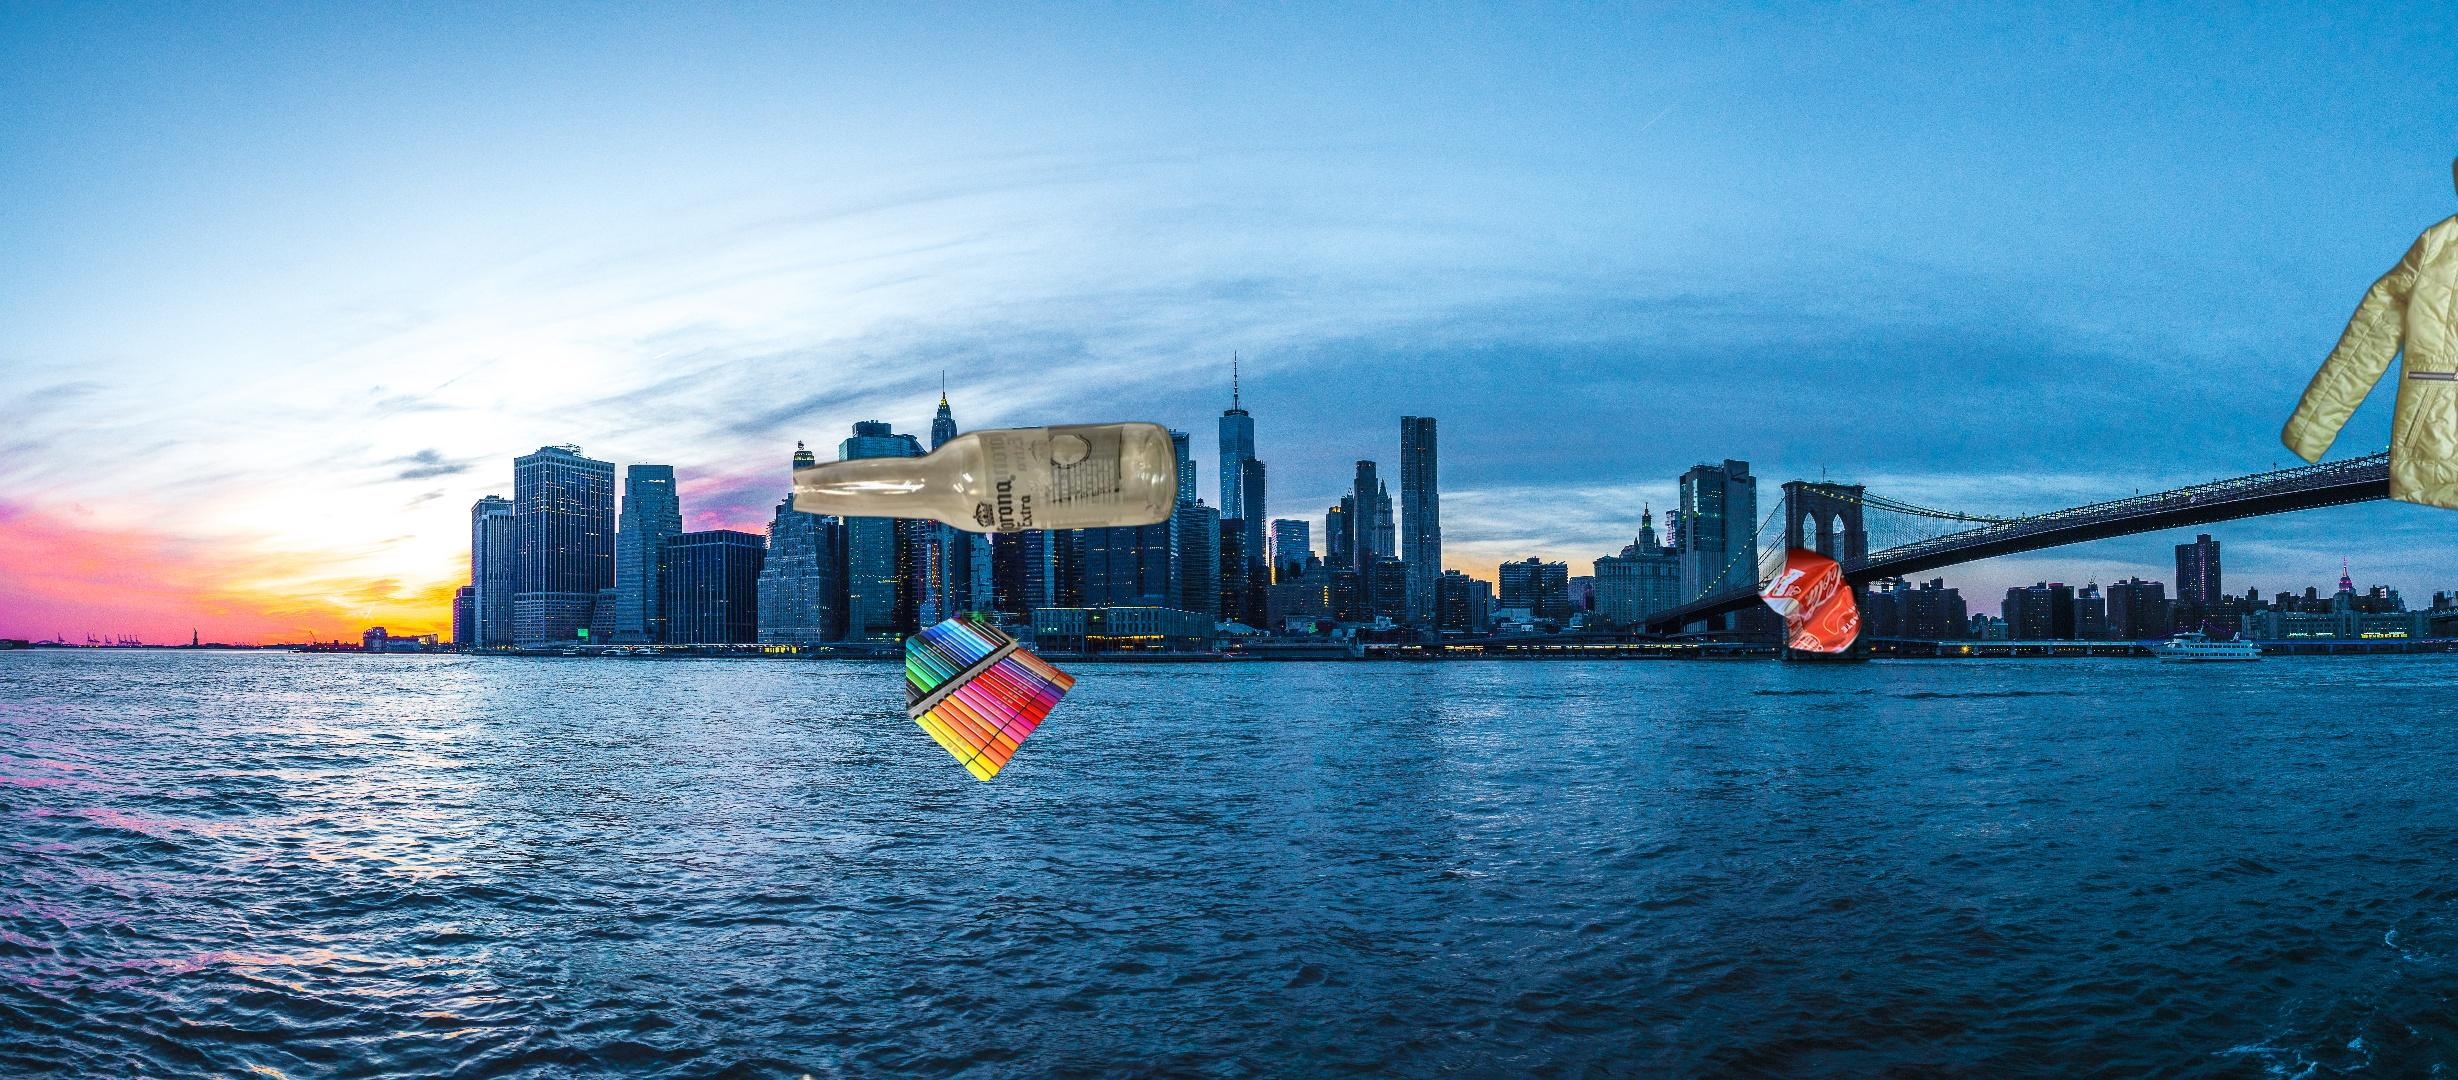clothes: (2276, 129, 2458, 516)
glass: (793, 419, 1182, 536), (768, 1066, 850, 1080)
metal-cans: (1753, 541, 1867, 661)
penholder: (2152, 754, 2458, 1080), (906, 611, 1075, 781)
